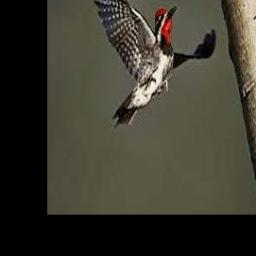Woodpecker: (94, 0, 215, 127)
